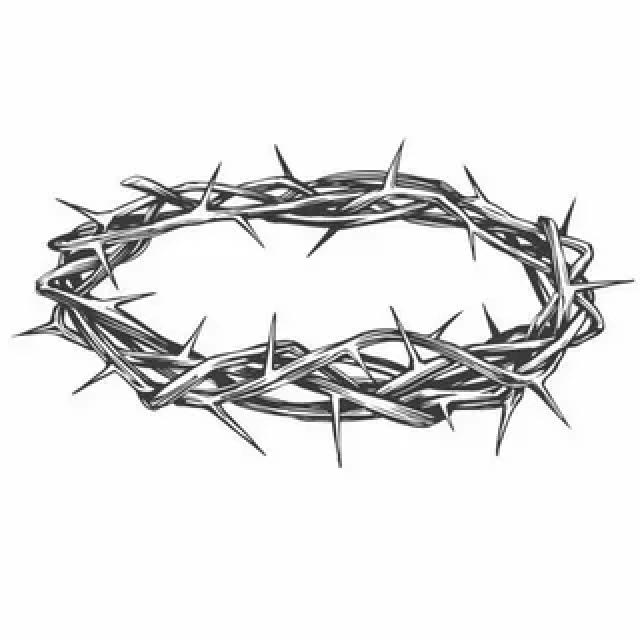crown: (29, 131, 612, 443)
